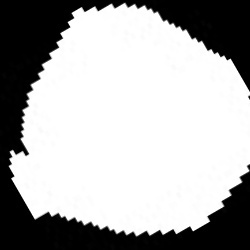spot: (8, 4, 248, 234)
